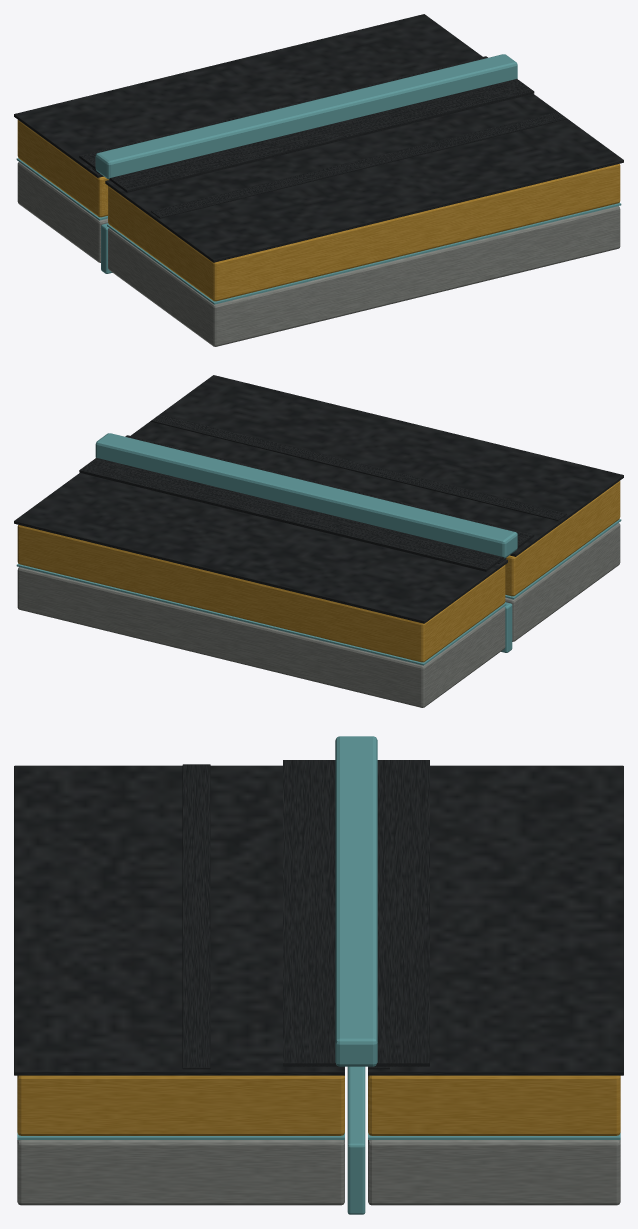
File: modell.glb
The picture shows the model from 3 angles, top to bottom: view 1: azimuth 30°, elevation 25°; view 2: azimuth 150°, elevation 25°; view 3: azimuth 270°, elevation 25°; orthographic projection. The views are drawn at different scales.
Parts seen in each view (by area): view 1: f09-abdichtung_deckung, f09-untergrund_tragwerk, f09-daemmung_daemmung, f09-fugenprofil_deckung, f09-naht_deckung, f09-luftdichtheit_luftdichtheit; view 2: f09-abdichtung_deckung, f09-untergrund_tragwerk, f09-daemmung_daemmung, f09-fugenprofil_deckung, f09-naht_deckung, f09-luftdichtheit_luftdichtheit; view 3: f09-abdichtung_deckung, f09-untergrund_tragwerk, f09-daemmung_daemmung, f09-fugenprofil_deckung, f09-naht_deckung, f09-bauwerksfuge_tragwerk, f09-luftdichtheit_luftdichtheit.
Boxes of the visible parts, <box> form: f09-abdichtung_deckung: <box>14,14,623,262</box>; f09-untergrund_tragwerk: <box>17,162,620,346</box>; f09-daemmung_daemmung: <box>17,120,620,301</box>; f09-fugenprofil_deckung: <box>95,54,517,179</box>; f09-naht_deckung: <box>92,112,566,218</box>; f09-luftdichtheit_luftdichtheit: <box>16,158,621,304</box>; f09-abdichtung_deckung: <box>14,375,623,623</box>; f09-untergrund_tragwerk: <box>17,523,620,707</box>; f09-daemmung_daemmung: <box>17,481,620,662</box>; f09-fugenprofil_deckung: <box>95,433,517,558</box>; f09-naht_deckung: <box>151,414,566,563</box>; f09-luftdichtheit_luftdichtheit: <box>16,519,621,665</box>; f09-abdichtung_deckung: <box>14,760,623,1075</box>; f09-untergrund_tragwerk: <box>17,1140,620,1205</box>; f09-daemmung_daemmung: <box>17,1075,620,1135</box>; f09-fugenprofil_deckung: <box>335,736,377,1066</box>; f09-naht_deckung: <box>182,764,389,1069</box>; f09-bauwerksfuge_tragwerk: <box>347,1066,365,1214</box>; f09-luftdichtheit_luftdichtheit: <box>17,1133,620,1139</box>.
Bounding box in the file's own units: 2.22 × 0.5975 × 1.87.
Materials: 4 (3 with a texture image).
